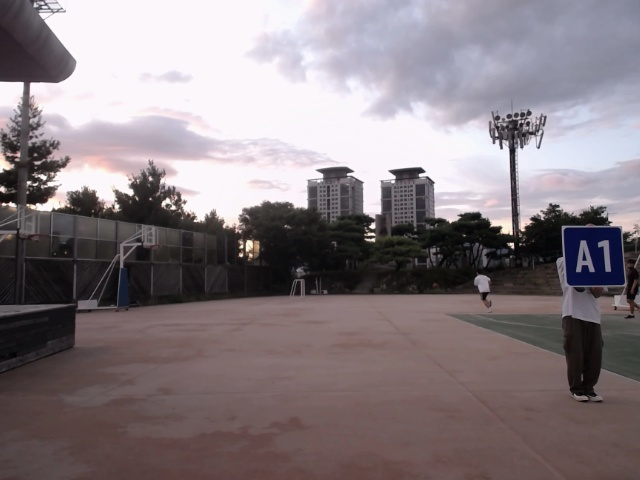delivery_a1: (562, 226, 627, 287)
